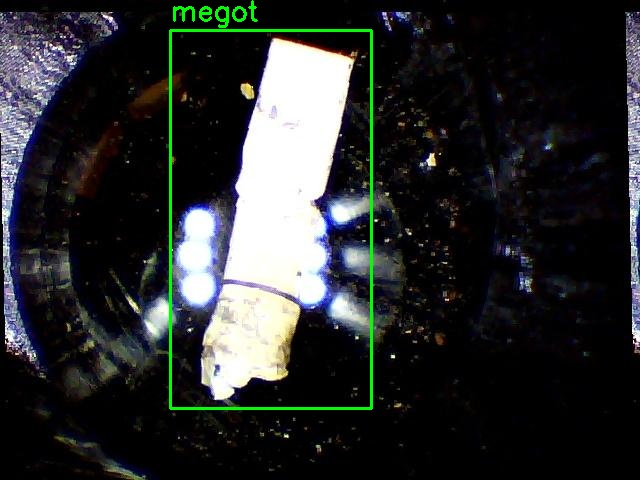megot: (170, 30, 371, 408)
